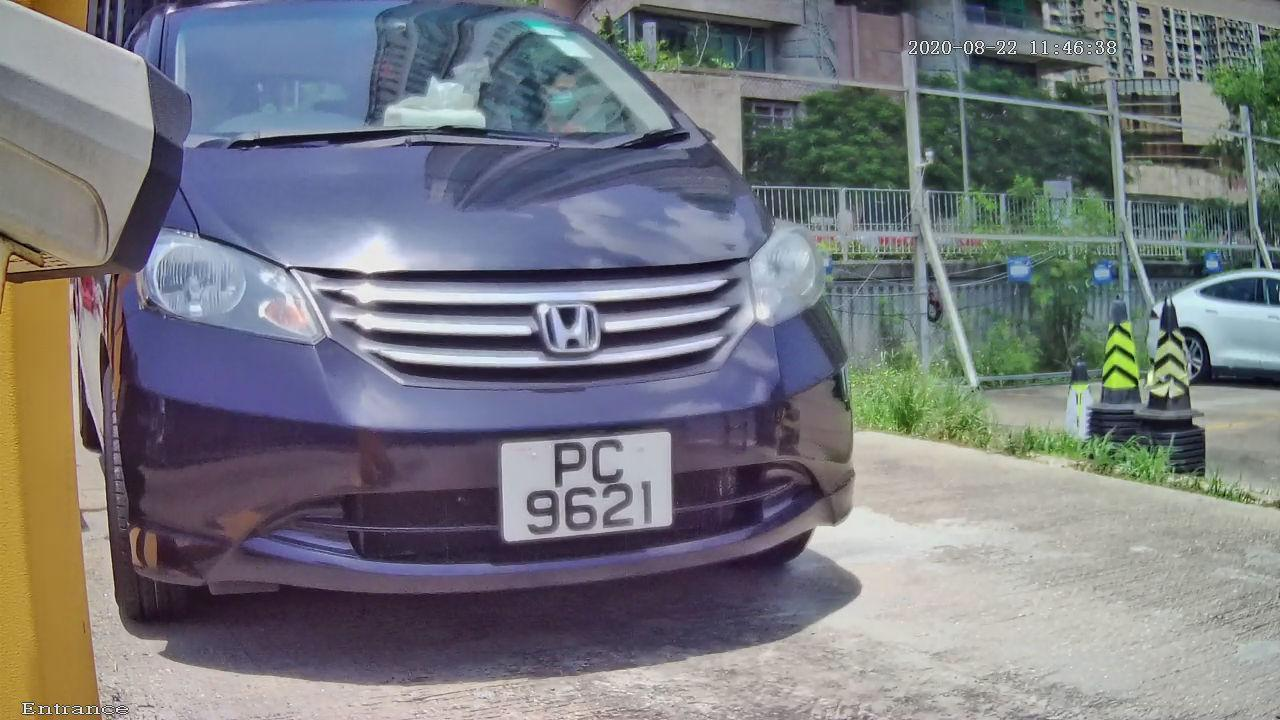Car: (23, 1, 898, 685)
License Plate: (486, 418, 686, 550)
